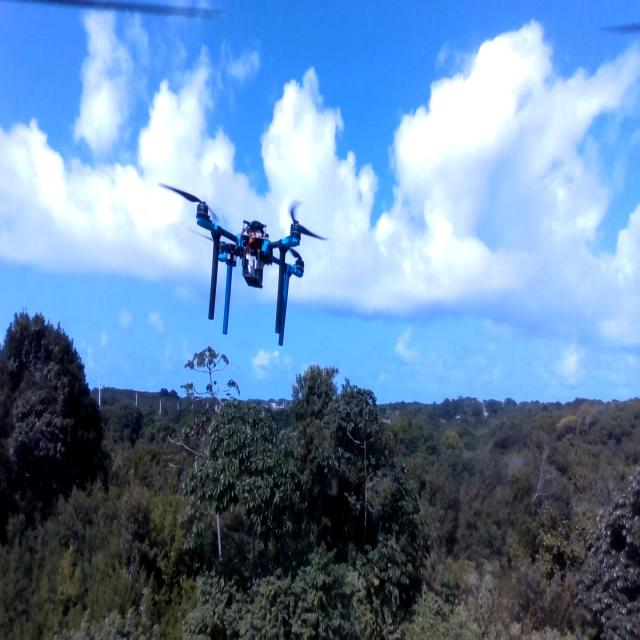-uav-: (154, 168, 338, 359)
